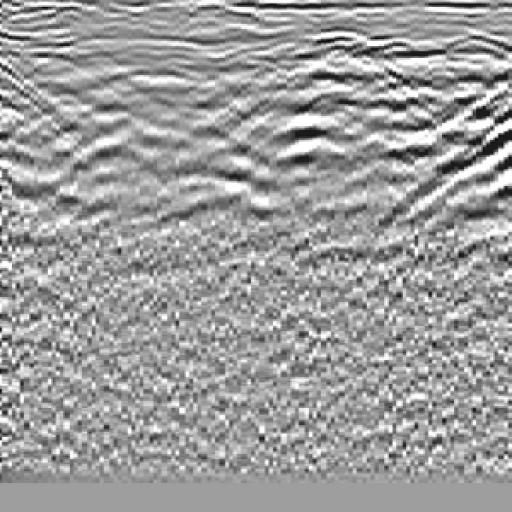metalic: (174, 39, 343, 287)
non-metallic: (385, 61, 512, 280)
